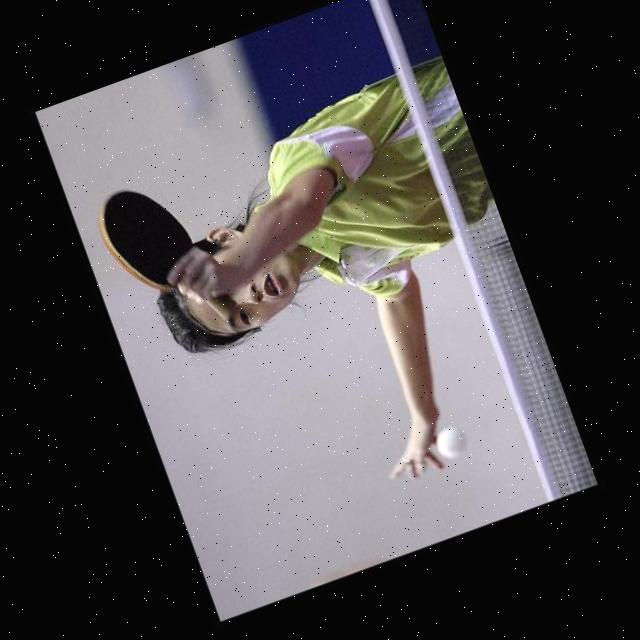ping-pong-ball: (432, 422, 471, 462)
